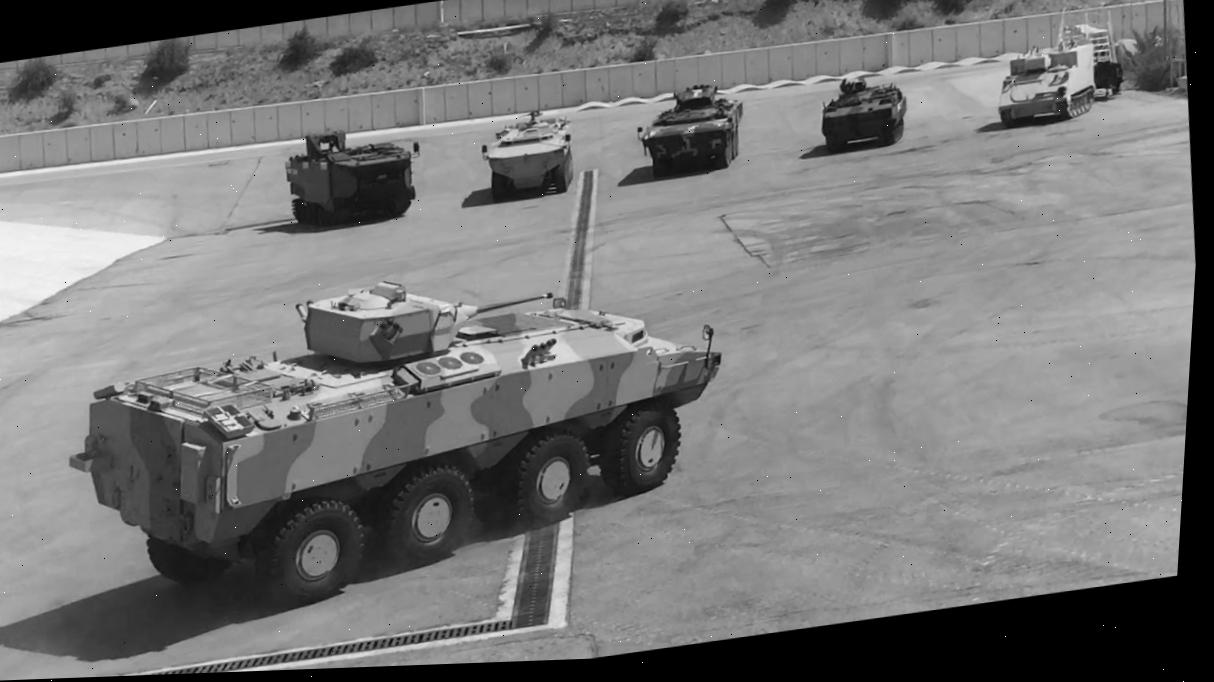armored_car: (47, 230, 749, 638), (620, 73, 759, 186), (977, 24, 1115, 135), (472, 96, 587, 207), (811, 62, 910, 156)
